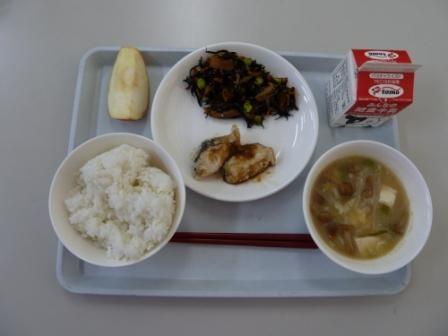Apple: (97, 40, 162, 133)
Fish: (192, 123, 280, 187)
Milk: (323, 45, 420, 128)
Rice: (50, 133, 185, 255)
Soups: (303, 141, 427, 260)
salad with sauce: (189, 43, 296, 124)
